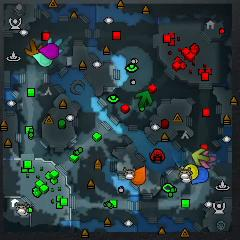p1: (192, 167, 210, 184)
p2: (33, 52, 53, 66)
p3: (39, 44, 59, 59)
p4: (184, 164, 198, 179)
x1: (201, 150, 216, 168)
x2: (192, 148, 209, 166)
x3: (48, 38, 63, 54)
x4: (136, 90, 151, 107)
x5: (25, 40, 42, 57)
